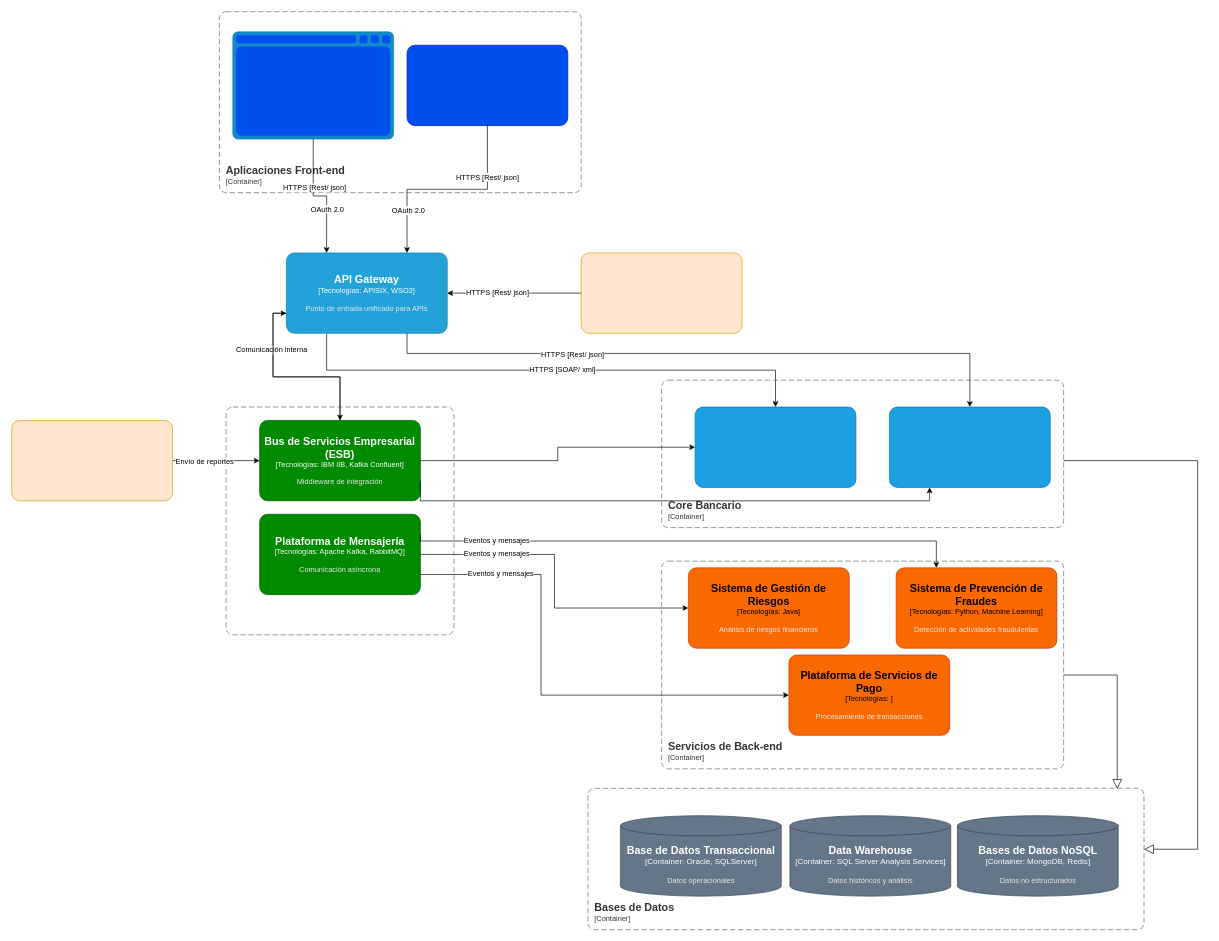
The diagram is 1219 pixels wide and 941 high, and some of its shapes have lost their labels. The shapes that lost their labels are listed below. From the top down, each one's box as (x1, y1, x2, y2) in pixels, then its label:
(232, 31, 394, 139): Banca Web [Container: Angular, TypeScript] Front-end web para clientes
(406, 45, 568, 126): Banca Móvil [Tecnologías: Flutter, Dart] Aplicación de Banca Móvil
(581, 252, 742, 333): APIs de Terceros (Open Finance) [: ] Integración con Fintechs y socios
(11, 420, 173, 501): Servicios Regulatorios [: ] Cumplimiento normativo
(694, 406, 856, 487): Core Bancario Tradicional [Tecnologías: COBOL, Mainframe] Sistema Legacy
(889, 406, 1050, 487): Nuevo Core Bancario Digital [Tecnologías: Java, Spring Boot] Servicios modernos
(225, 406, 454, 635): Plataforma de Integración [Container]
